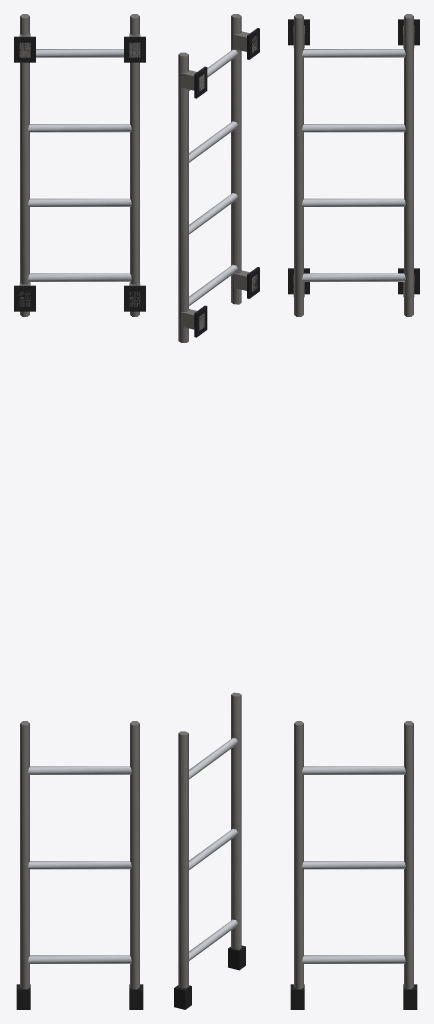
File: struct03_ladder_handrail_telescoping_deployed.glb
The picture shows the model from 3 angles, left to right: view 1: azimuth 90°, elevation 25°; view 2: azimuth 150°, elevation 25°; view 3: azimuth 270°, elevation 25°; orthographic projection. The views are drawn at different scales.
Parts seen in each view (by area): view 1: ladder_lower_stringers, ladder_upper_stringers, ladder_upper_rungs, ladder_lower_rungs, mount_pads, standoffs, ladder_lower_guides; view 2: ladder_upper_stringers, ladder_lower_stringers, ladder_upper_rungs, ladder_lower_rungs, standoffs, mount_pads, ladder_lower_guides; view 3: ladder_upper_stringers, ladder_lower_stringers, ladder_upper_rungs, ladder_lower_rungs, mount_pads, ladder_lower_guides.
Boxes of the visible parts, box(x1,y1,x2,y2) form: ladder_lower_stringers: box(20, 721, 139, 989); ladder_upper_stringers: box(20, 14, 139, 316); ladder_upper_rungs: box(28, 49, 131, 281); ladder_lower_rungs: box(28, 766, 131, 963); mount_pads: box(14, 36, 145, 311); standoffs: box(19, 33, 140, 306); ladder_lower_guides: box(16, 984, 143, 1009); ladder_upper_stringers: box(178, 14, 241, 342); ladder_lower_stringers: box(178, 692, 241, 988); ladder_upper_rungs: box(189, 49, 237, 305); ladder_lower_rungs: box(189, 738, 237, 960); standoffs: box(181, 31, 257, 330); mount_pads: box(194, 28, 259, 337); ladder_lower_guides: box(174, 945, 245, 1009); ladder_upper_stringers: box(294, 14, 413, 316); ladder_lower_stringers: box(294, 721, 413, 989); ladder_upper_rungs: box(302, 49, 405, 281); ladder_lower_rungs: box(302, 766, 405, 963); mount_pads: box(288, 19, 419, 294); ladder_lower_guides: box(290, 984, 417, 1009).
Size of the model in its own units: 0.105 by 3.98 by 0.48.
3 materials, 2 textured.
